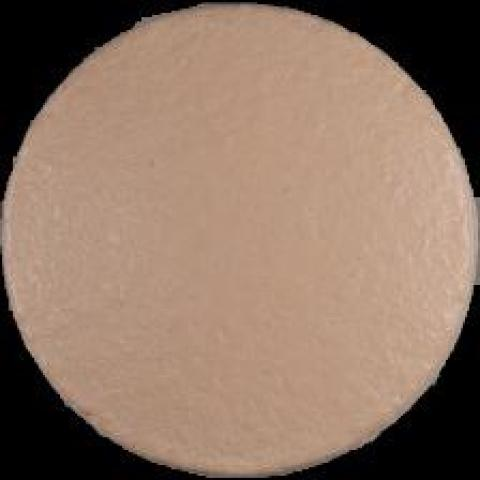Pill: (6, 8, 475, 473)
